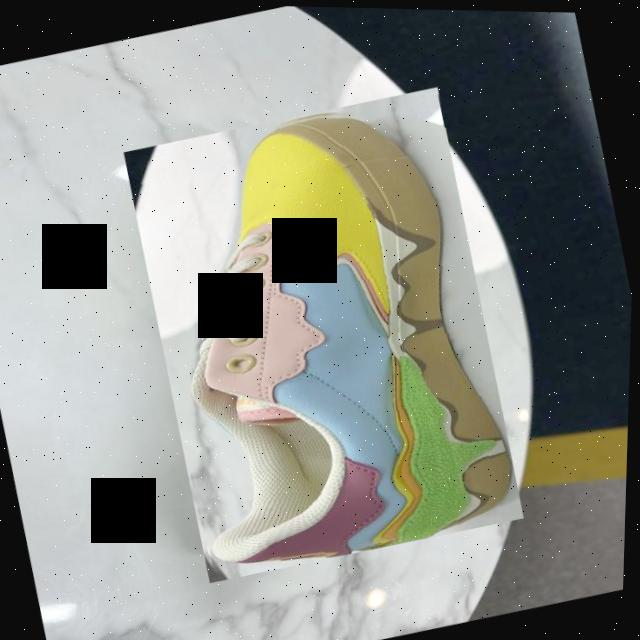shoe: (115, 79, 537, 587)
